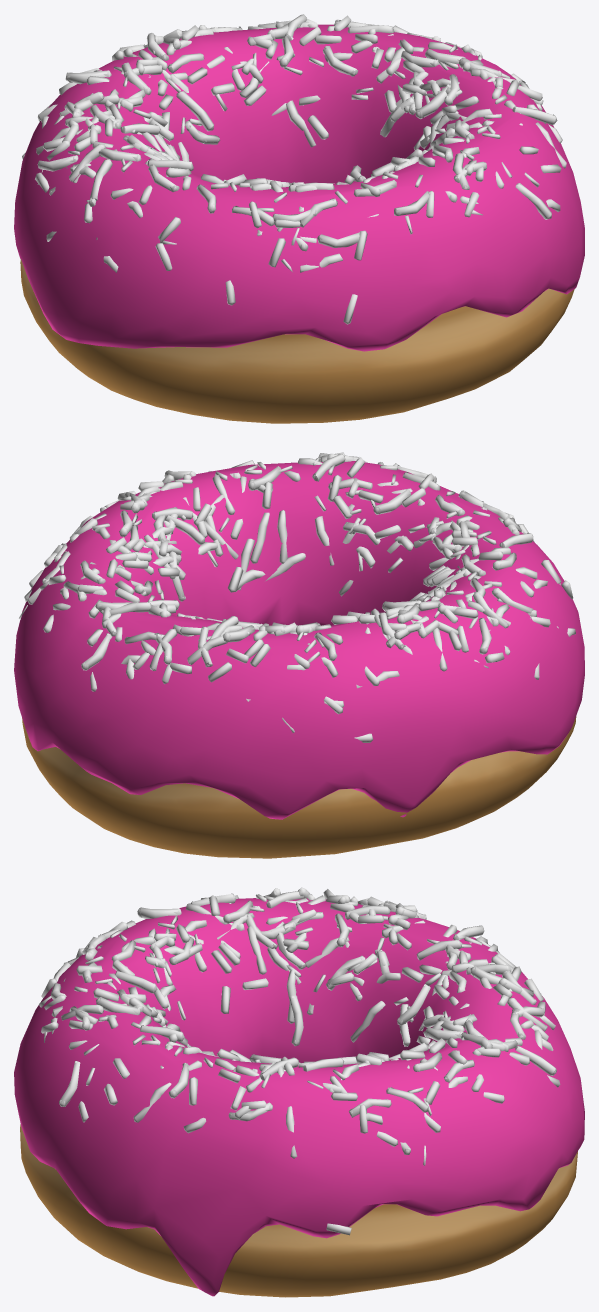
The model's file is donut_compressed.glb.
The picture shows the model from 3 angles, top to bottom: view 1: azimuth 30°, elevation 25°; view 2: azimuth 150°, elevation 25°; view 3: azimuth 270°, elevation 25°; orthographic projection. The views are drawn at different scales.
Visible parts, largest first — view 1: glaze, topping, donut; view 2: glaze, topping, donut; view 3: glaze, topping, donut.
Part boxes in pixels (bbox=[...]): glaze: bbox=[14, 24, 584, 351]; topping: bbox=[22, 14, 566, 324]; donut: bbox=[20, 258, 574, 423]; glaze: bbox=[14, 461, 584, 819]; topping: bbox=[19, 452, 575, 742]; donut: bbox=[22, 716, 576, 858]; glaze: bbox=[14, 898, 584, 1296]; topping: bbox=[39, 887, 560, 1235]; donut: bbox=[20, 1124, 577, 1297].
Size of the model in its own units: 0.1534 by 0.0717 by 0.1531.
Materials: 3 (1 with a texture image).
